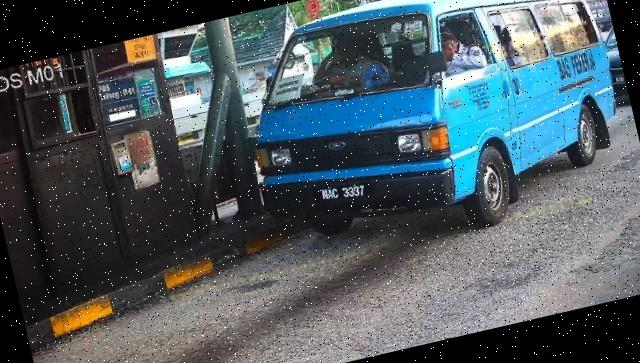License_Plate: (315, 176, 373, 213)
van: (225, 1, 639, 274)
